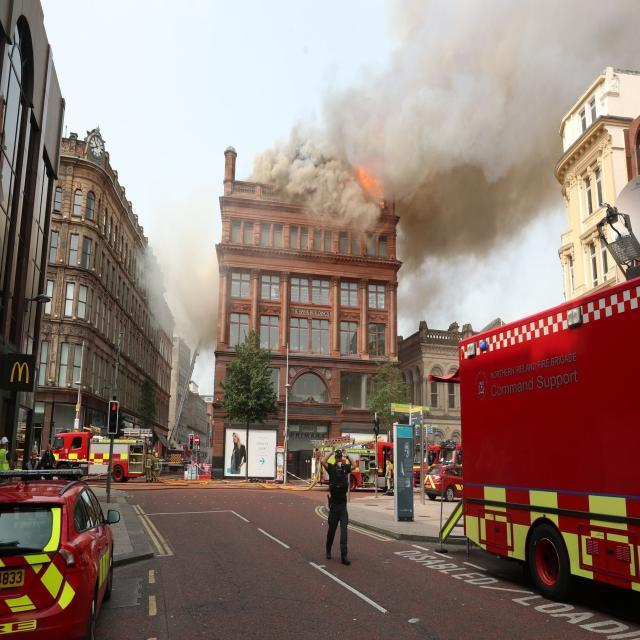Fire: (357, 164, 383, 196)
Smoke: (245, 0, 640, 323), (134, 217, 219, 354)
